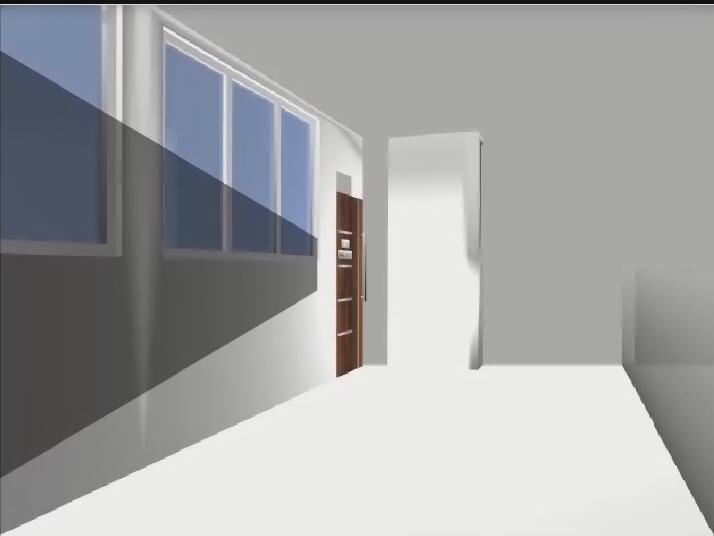door: (335, 191, 367, 376)
